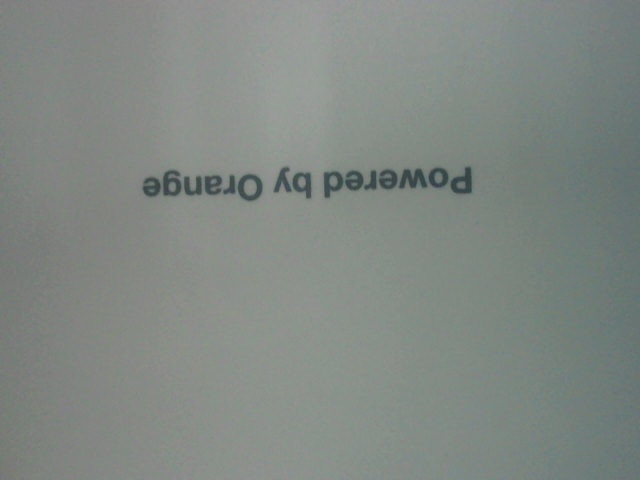AS_PowerByOrange: (113, 146, 482, 210)
